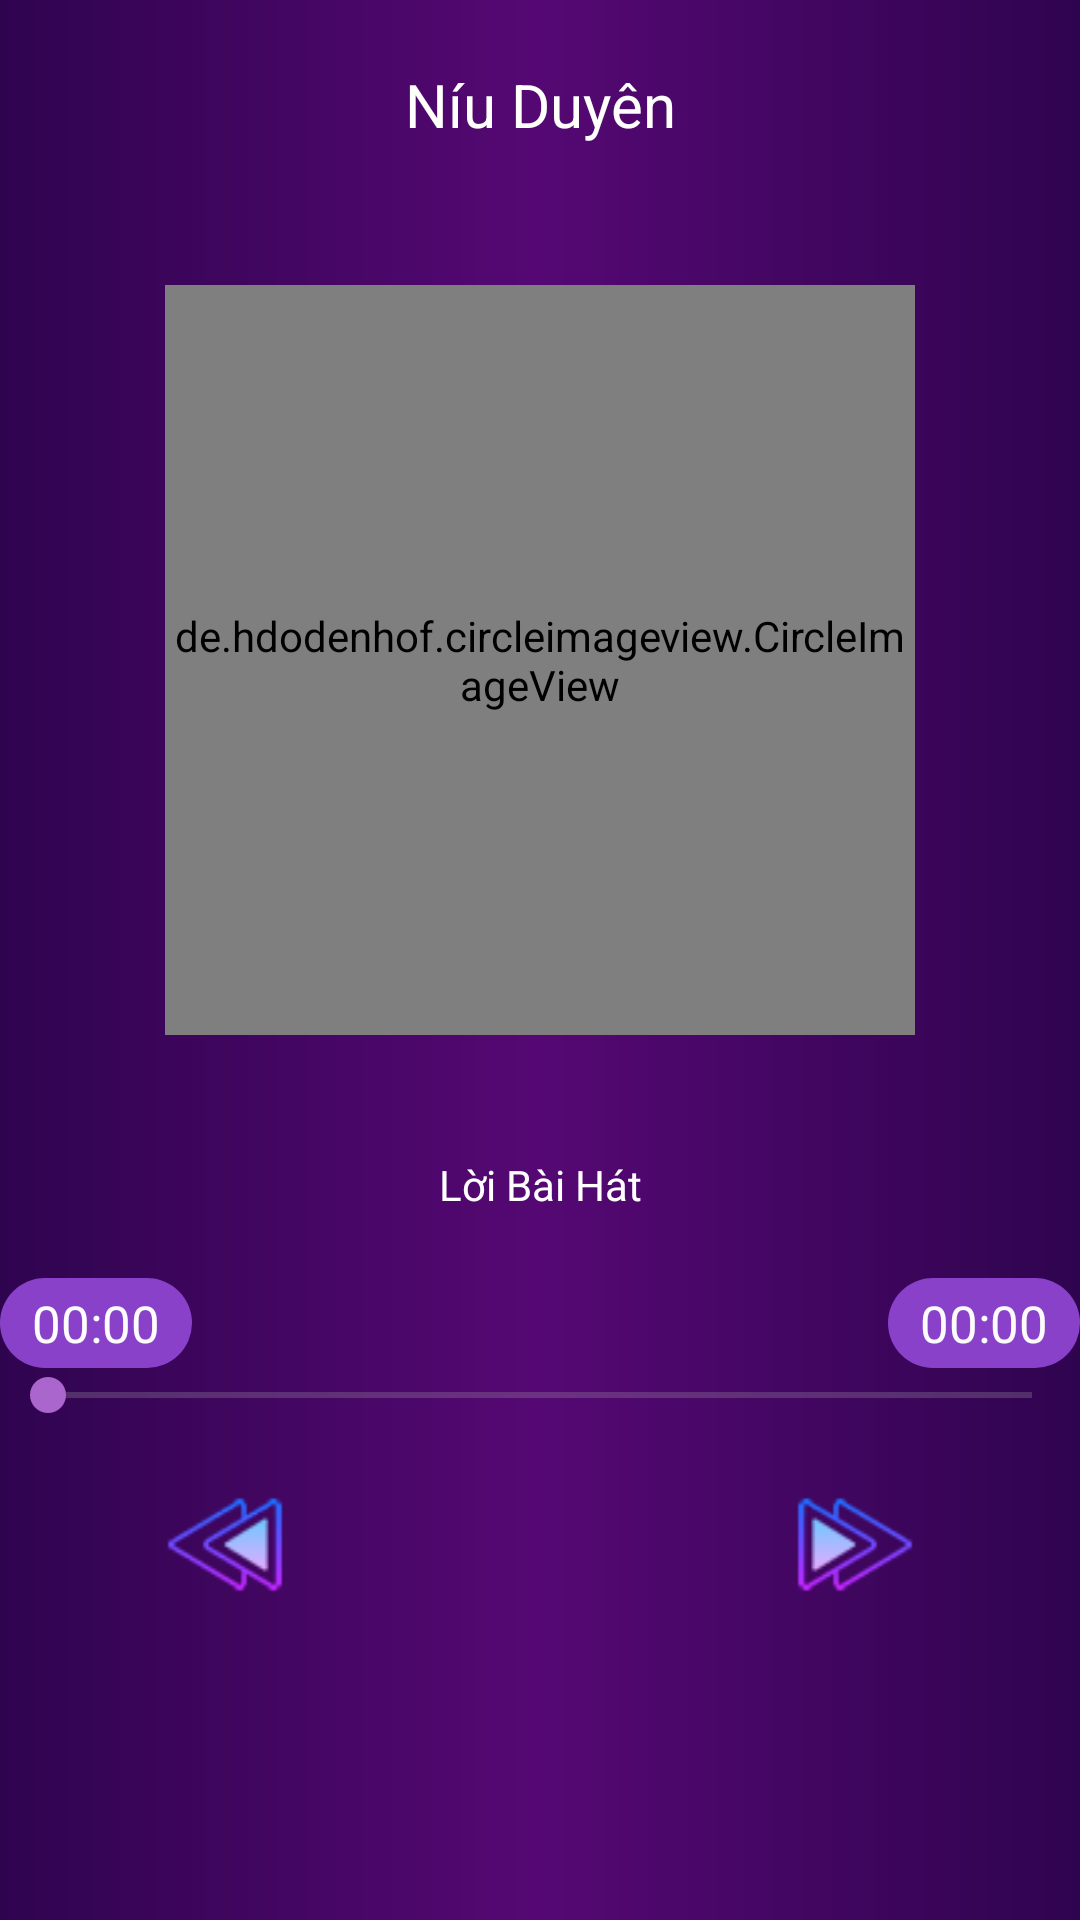

Named icons in this screenshot (1080*1920) and their bounding boxes, rect(x1, y1, x2, y2):
back: rect(167, 1498, 283, 1591)
next: rect(797, 1498, 913, 1591)
